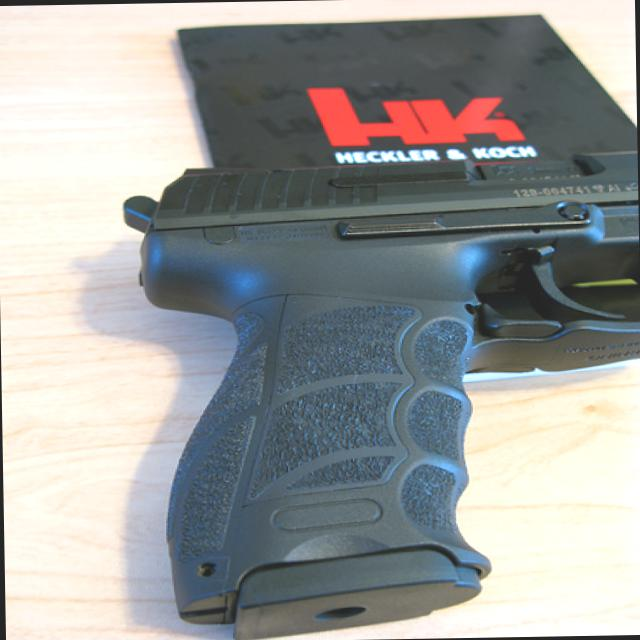handgun: (118, 148, 639, 626)
